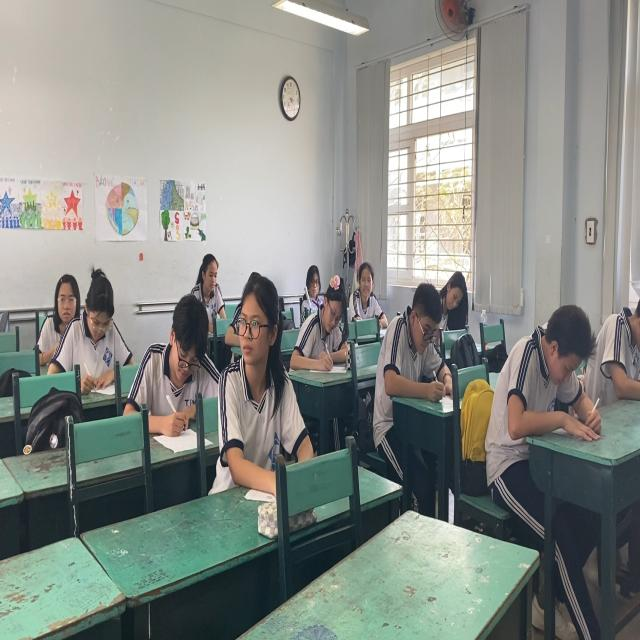not_cheating: (140, 300, 240, 448), (230, 268, 294, 461), (510, 302, 599, 434), (67, 254, 136, 385), (377, 279, 442, 382), (302, 282, 352, 374), (45, 250, 86, 326), (350, 264, 385, 336), (189, 244, 225, 305), (442, 268, 471, 330), (308, 261, 320, 302)
